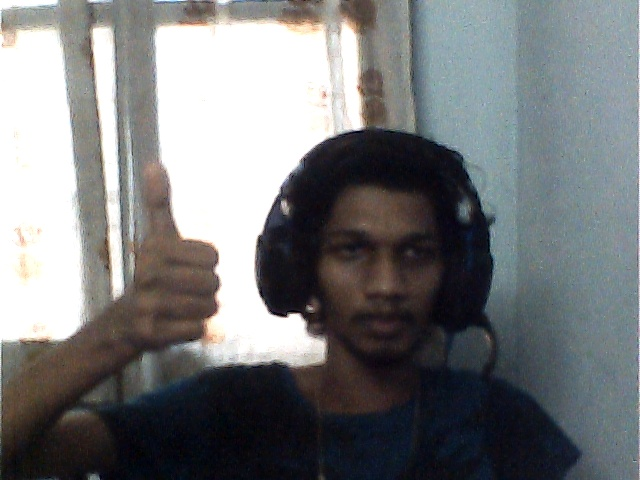ThumbsUp: (124, 164, 221, 346)
